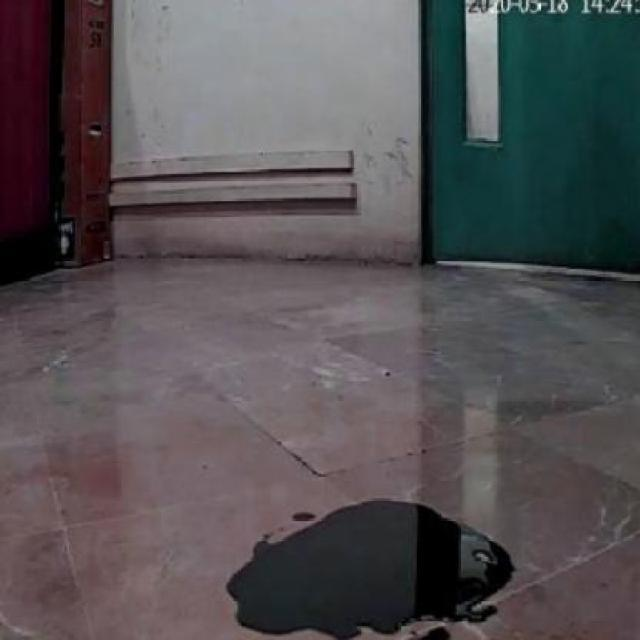spillage: (224, 495, 521, 639)
